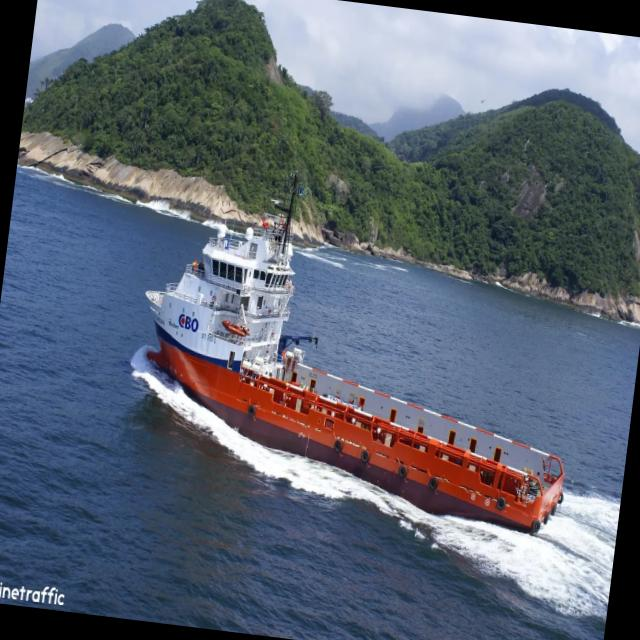Offshore: (145, 176, 563, 532)
